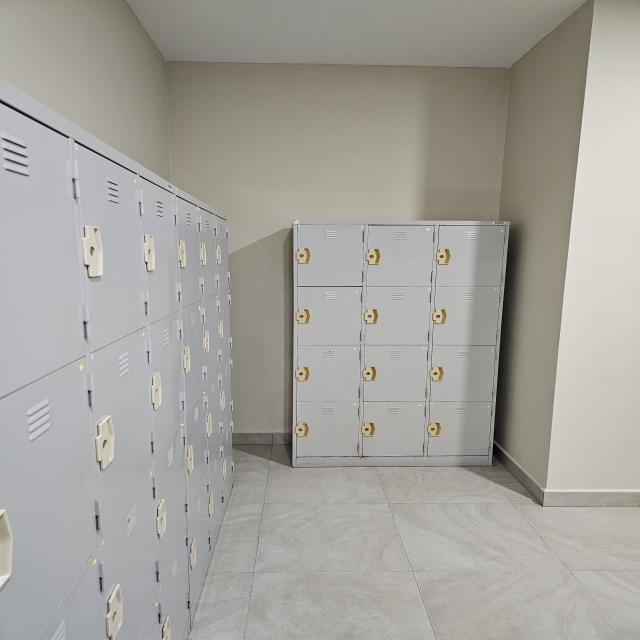footpath: (244, 502, 640, 634)
obstacle: (0, 86, 236, 640), (287, 217, 512, 469)
